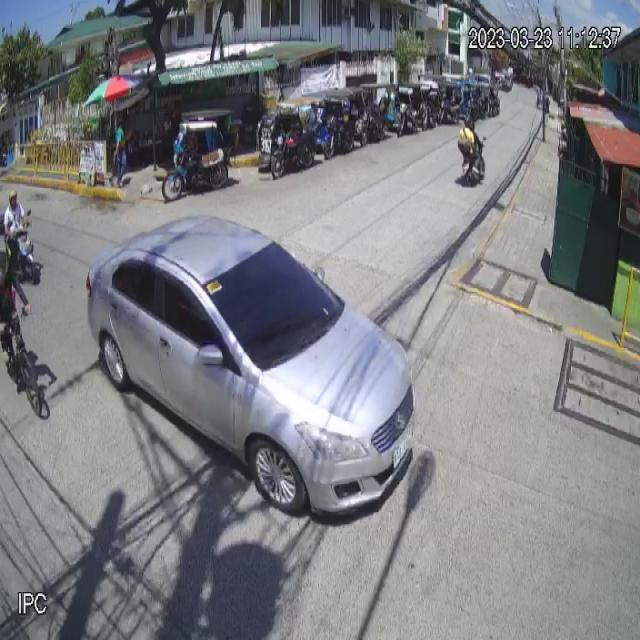Car: (84, 211, 417, 521)
